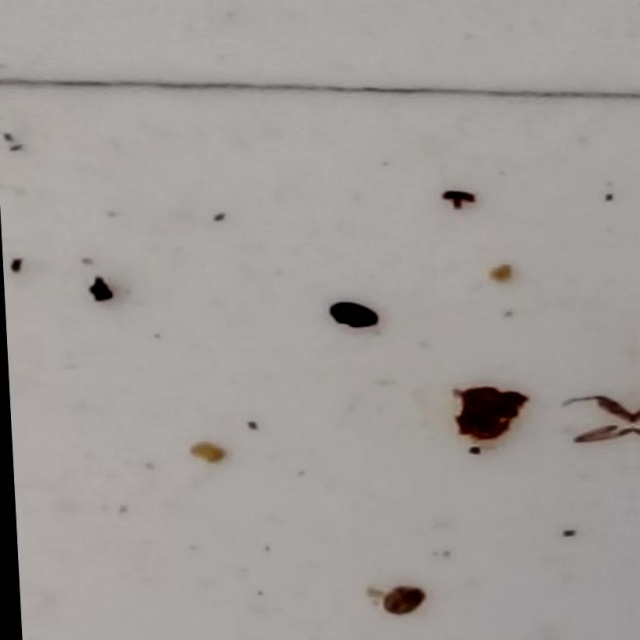varroa: (321, 299, 376, 329)
